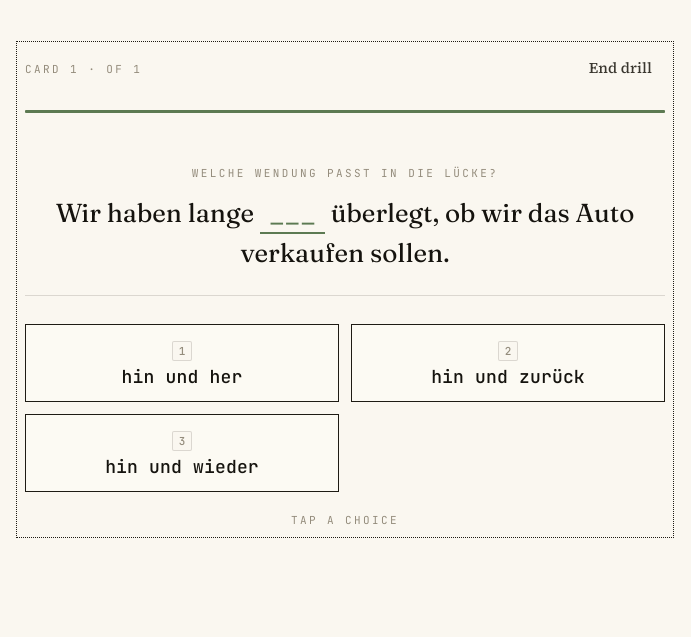
IdiomRunner — the reveal › a wrong pick reveals the explanation, the filled sentence and the answer
Click the button with class "choice" showing "3 hin und wieder": (182, 453) 25,414 -> 339,492
(page scrolled)
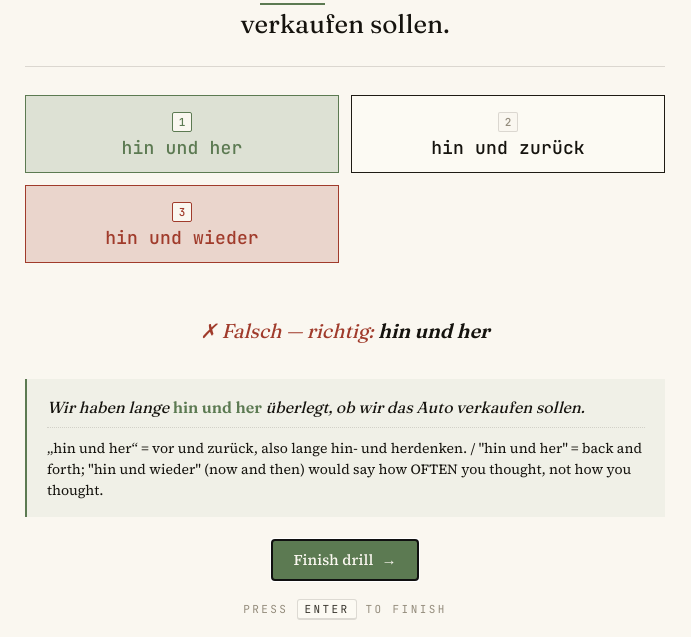
Expected: the element with class "wrong" that starts with "✗ Falsch — richtig:" is shown, 200,315 -> 490,347
Expected: the text with class "im-explanation" shows "„hin und her“ = vor und zurück, also lange hin- und herdenken. / \"hin und her\" = back and forth; \"hin und wieder\" (now and then) would say how OFTEN you thought", 47,438 -> 642,500
Expected: the element with class "im-filled" reads "Wir haben lange hin und her überlegt, ob wir das Auto verkaufen sollen.", 47,395 -> 645,428
